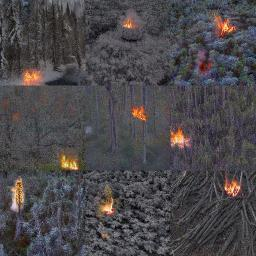Small fire: (4, 176, 33, 216), (210, 14, 242, 39), (167, 126, 193, 151), (220, 177, 248, 200), (56, 151, 82, 174), (126, 101, 149, 126), (20, 66, 46, 87), (96, 197, 120, 217), (196, 56, 217, 76), (117, 14, 139, 32)
